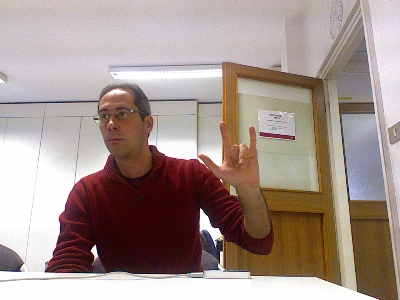我爱你: (196, 121, 261, 188)
